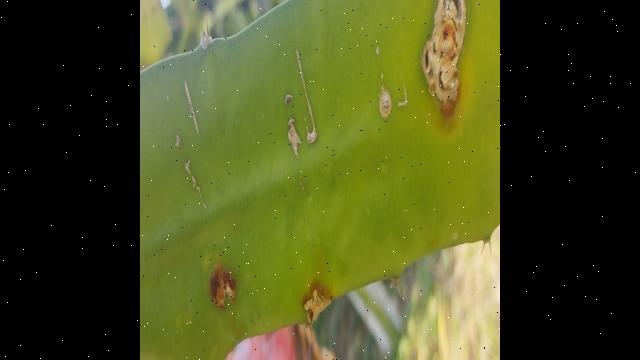stemcanker: (374, 80, 397, 123)
